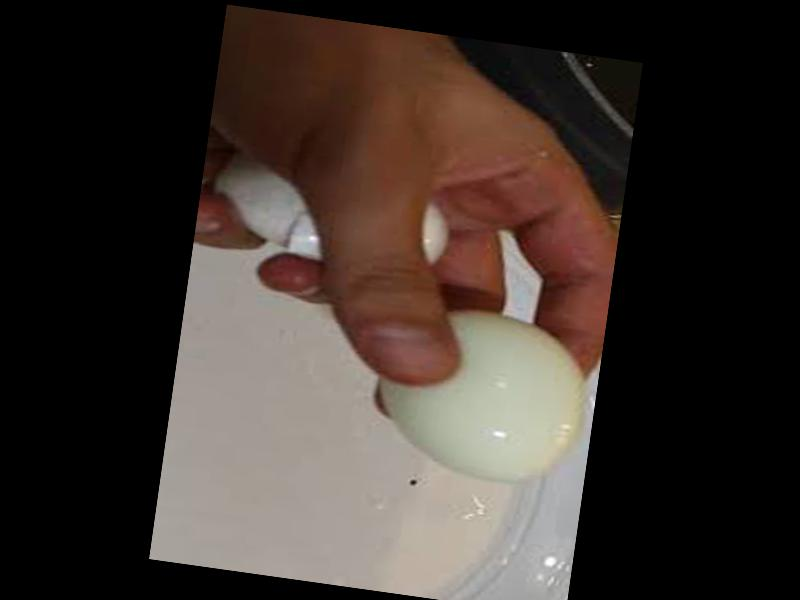Eggs: (366, 298, 602, 488)
